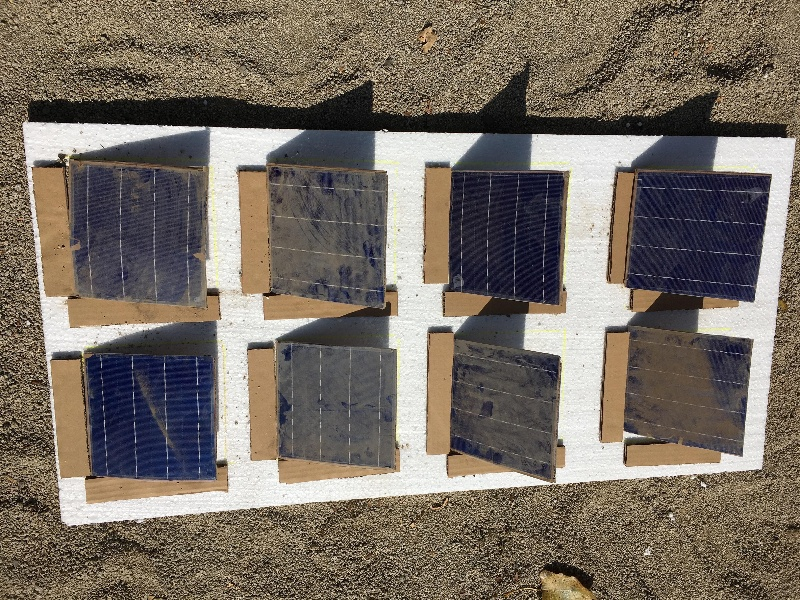clean: (632, 171, 770, 301), (77, 356, 221, 480), (451, 175, 570, 307)
dirty: (65, 163, 208, 308), (262, 160, 390, 310), (621, 325, 748, 458), (272, 341, 399, 473), (447, 340, 560, 484)
